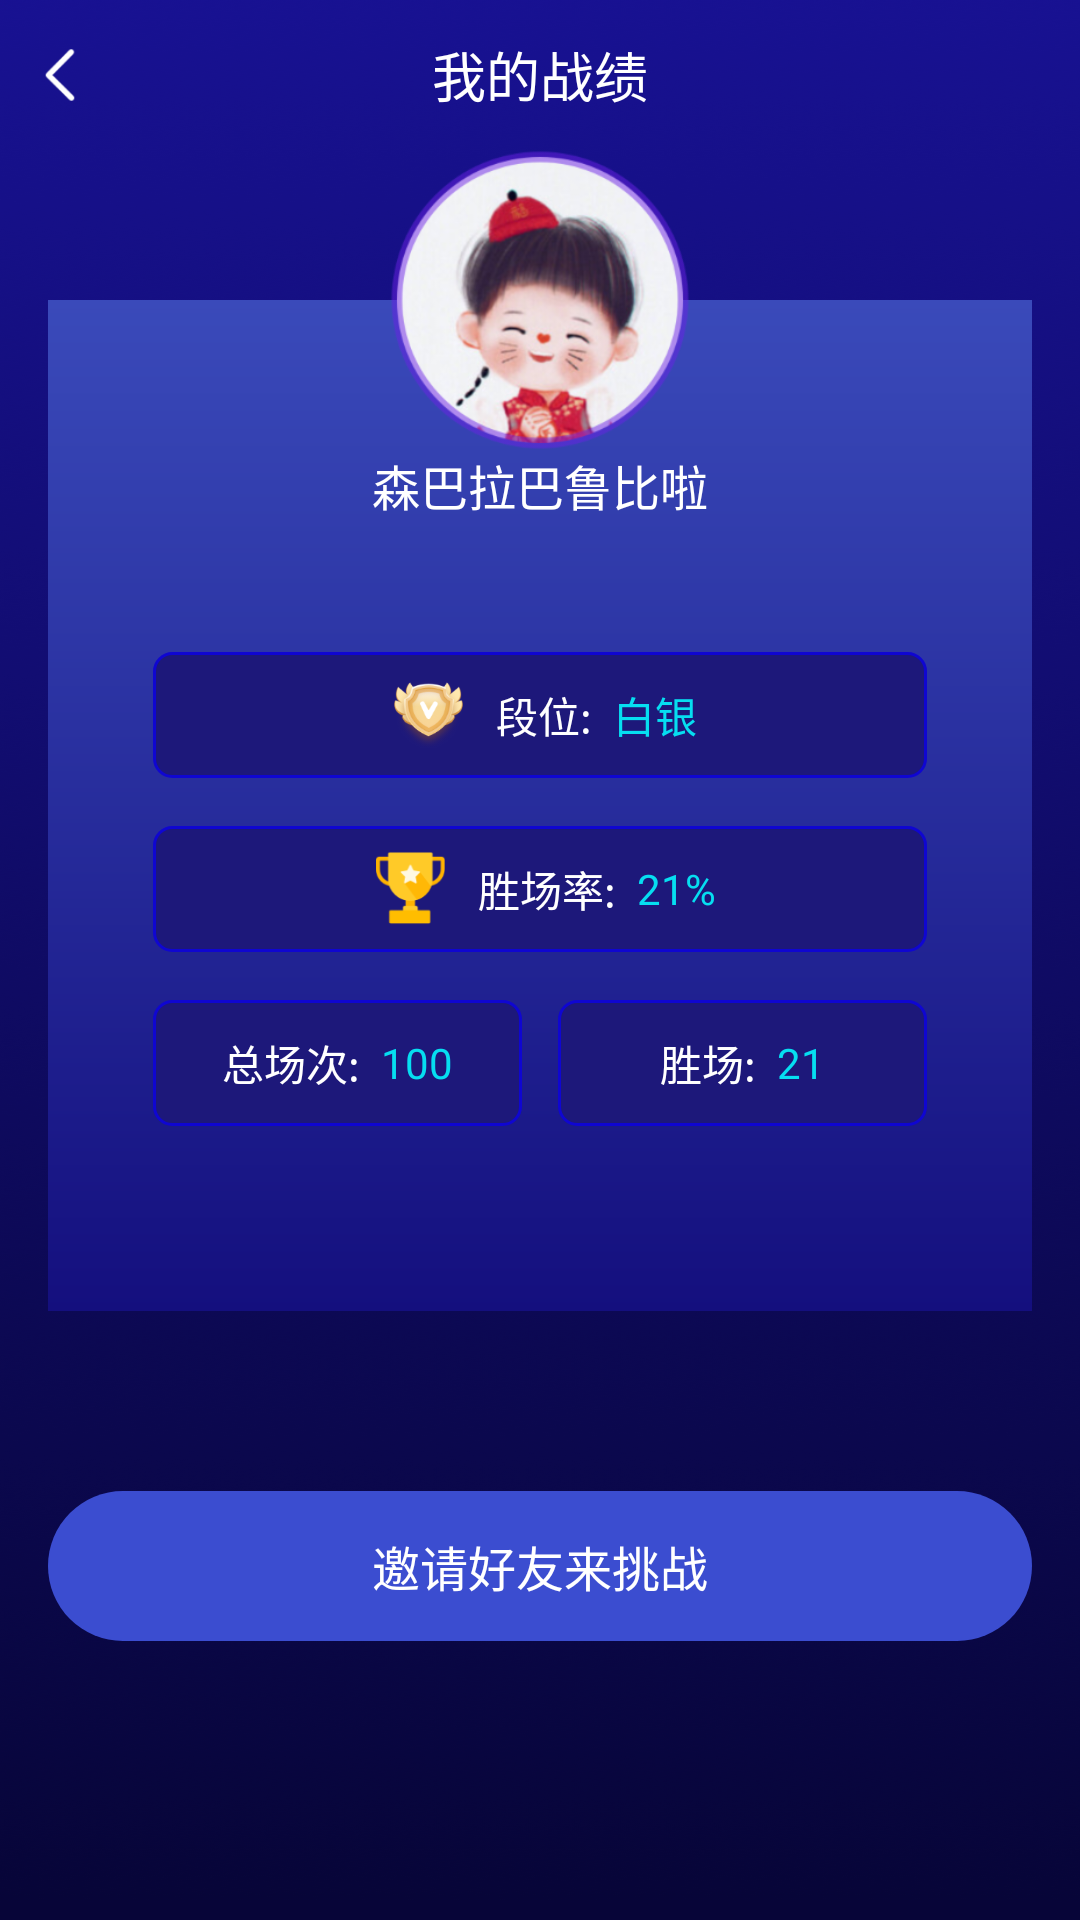

Screen size 1080px x 1920px. Icon name, then its center in pixels as point (x, y):
back: point (60, 75)
head: point (540, 300)
level: point (428, 711)
trophy: point (410, 888)
